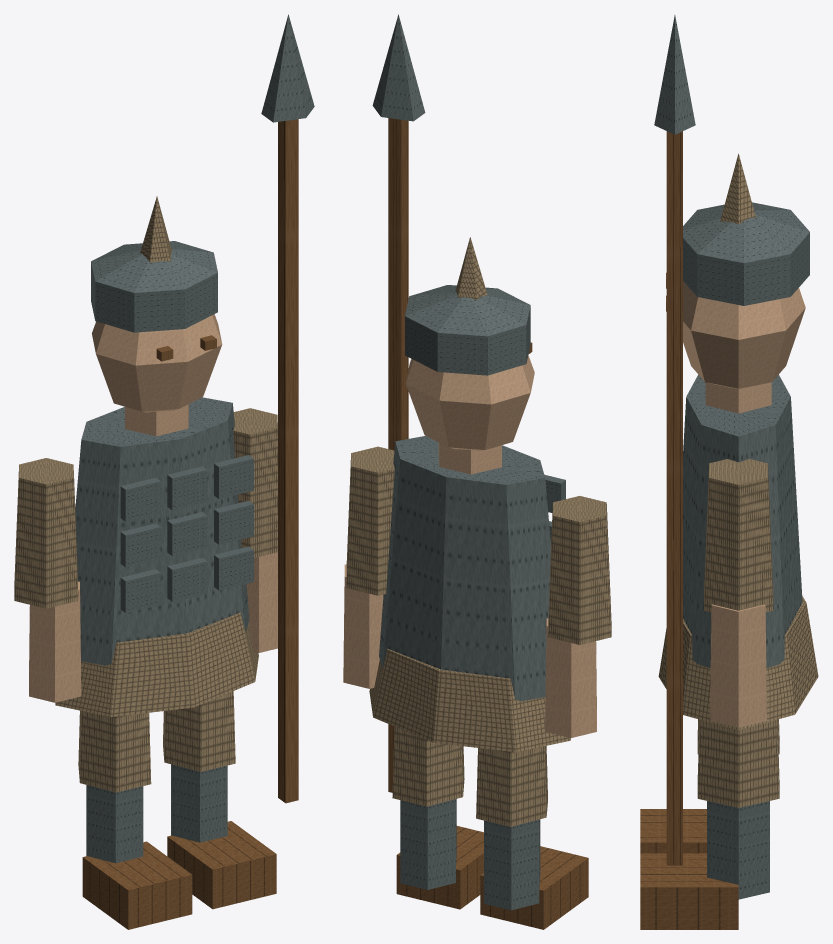
Rendered from unit-SPEAR-lod0.glb.
3 views of the same model, side by side, from view 1: azimuth 30°, elevation 25°; view 2: azimuth 150°, elevation 25°; view 3: azimuth 270°, elevation 25° (orthographic). The views are drawn at different scales.
Bounding box in the file's own units: 0.186 × 0.565 × 0.098.
Materials: 1 (1 with a texture image).
